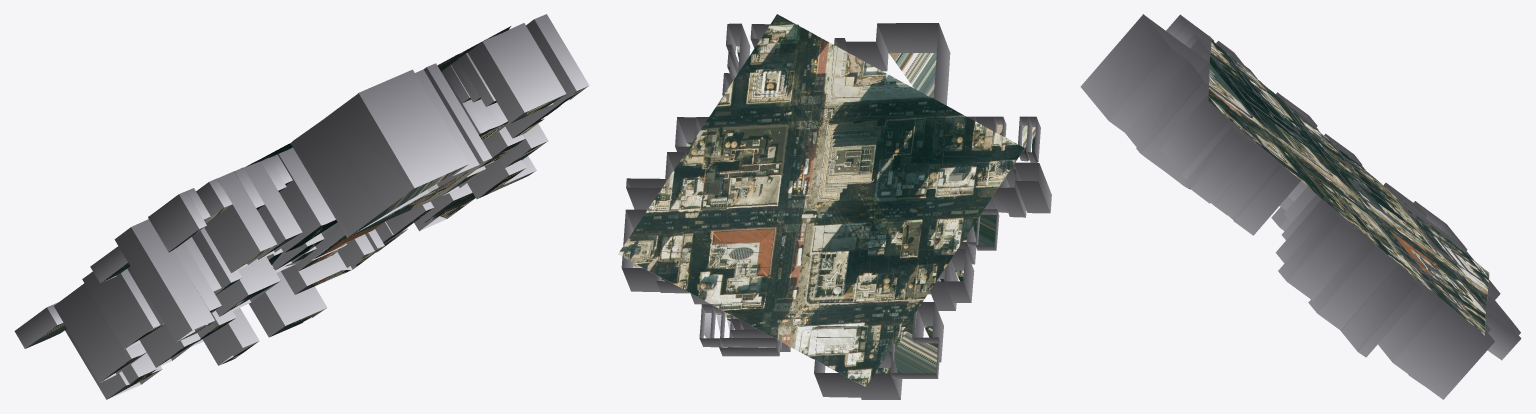
The picture shows the model from 3 angles, left to right: view 1: azimuth 30°, elevation 25°; view 2: azimuth 150°, elevation 25°; view 3: azimuth 270°, elevation 25°; orthographic projection. The views are drawn at different scales.
Size of the model in its own units: 315 by 242 by 280.
1 material, 1 textured.
